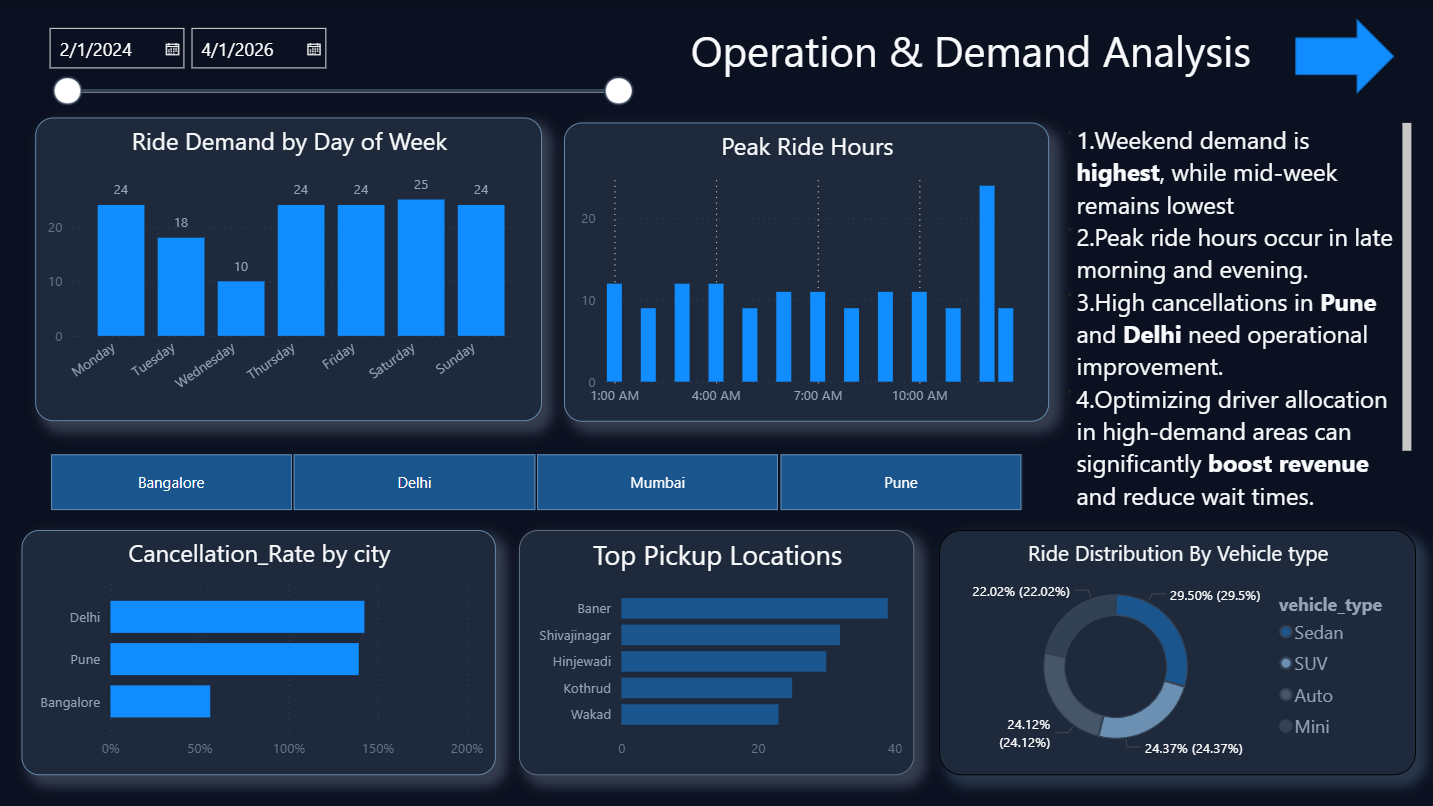

This screenshot's page, from the dashboard's own definition file:
{"tool":"powerbi","page":{"name":"Operations & Demand Analysis","canvas":[1280,720],"ordinal":1},"visuals":[{"type":"columnChart","title":"Ride Demand by Day of Week","fields":{"Category":["cab_rides_final.Day_Name"],"Y":["CountNonNull(cab_rides_final.ride_id)"]},"box":[32.6,105,451.2,270.2],"z":0},{"type":"donutChart","title":"Ride Distribution By Vehicle type","fields":{"Category":["cab_rides_final.vehicle_type"],"Y":["Sum(cab_rides_final.ride_id)"]},"box":[837.3,471.7,424.7,218.4],"z":1000},{"type":"barChart","title":"Cancellation_Rate by city","fields":{"Category":["cab_rides_final.city"],"Y":["cab_rides_final.Cancellation_Rate"]},"box":[20.5,471.7,422.3,218.4],"z":2000},{"type":"barChart","title":"Top Pickup Locations","fields":{"Category":["cab_rides_final.pickup_location"],"Y":["CountNonNull(cab_rides_final.ride_id)"]},"box":[463.3,471.7,352.3,218.4],"z":3000},{"type":"clusteredColumnChart","title":"Peak Ride Hours","fields":{"Y":["CountNonNull(cab_rides_final.ride_id)"],"Category":["cab_rides_final.pickup_time"]},"box":[503.1,108.6,431.9,266.6],"z":4000},{"type":"slicer","fields":{"Values":["cab_rides_final.city"]},"box":[20.5,396.9,914.5,63.9],"z":5000},{"type":"slicer","fields":{"Values":["cab_rides_final.pickup_date"]},"box":[32.6,14.5,540.5,90.5],"z":6000},{"type":"textbox","box":[611.7,14.5,522.4,67.6],"z":7000},{"type":"shape","box":[1154.6,16.3,88.2,67],"z":8000},{"type":"textbox","box":[935.8,104.5,326.6,351.1],"z":8001}]}

Visuals, with their boxes in screenshot pixels (x1, y1, x2, y2), scaled from the page's 1280x720 canvas onto the 1433x806 screenshot:
"Ride Demand by Day of Week" columnChart: rect(36, 118, 542, 420)
"Ride Distribution By Vehicle type" donutChart: rect(937, 528, 1413, 773)
"Cancellation_Rate by city" barChart: rect(23, 528, 496, 773)
"Top Pickup Locations" barChart: rect(519, 528, 913, 773)
"Peak Ride Hours" clusteredColumnChart: rect(563, 122, 1047, 420)
slicer - cab_rides_final.city: rect(23, 444, 1047, 516)
slicer - cab_rides_final.pickup_date: rect(36, 16, 642, 118)
textbox: rect(685, 16, 1270, 92)
shape: rect(1293, 18, 1391, 93)
textbox: rect(1048, 117, 1413, 510)
